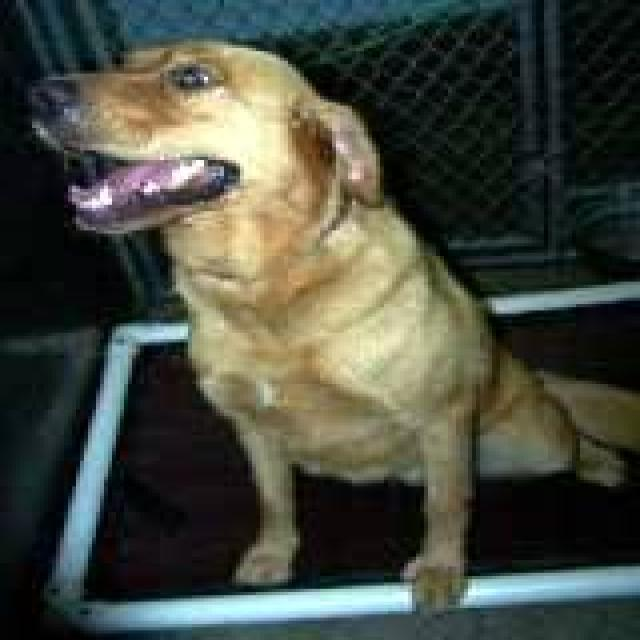dogs: (44, 22, 640, 621)
